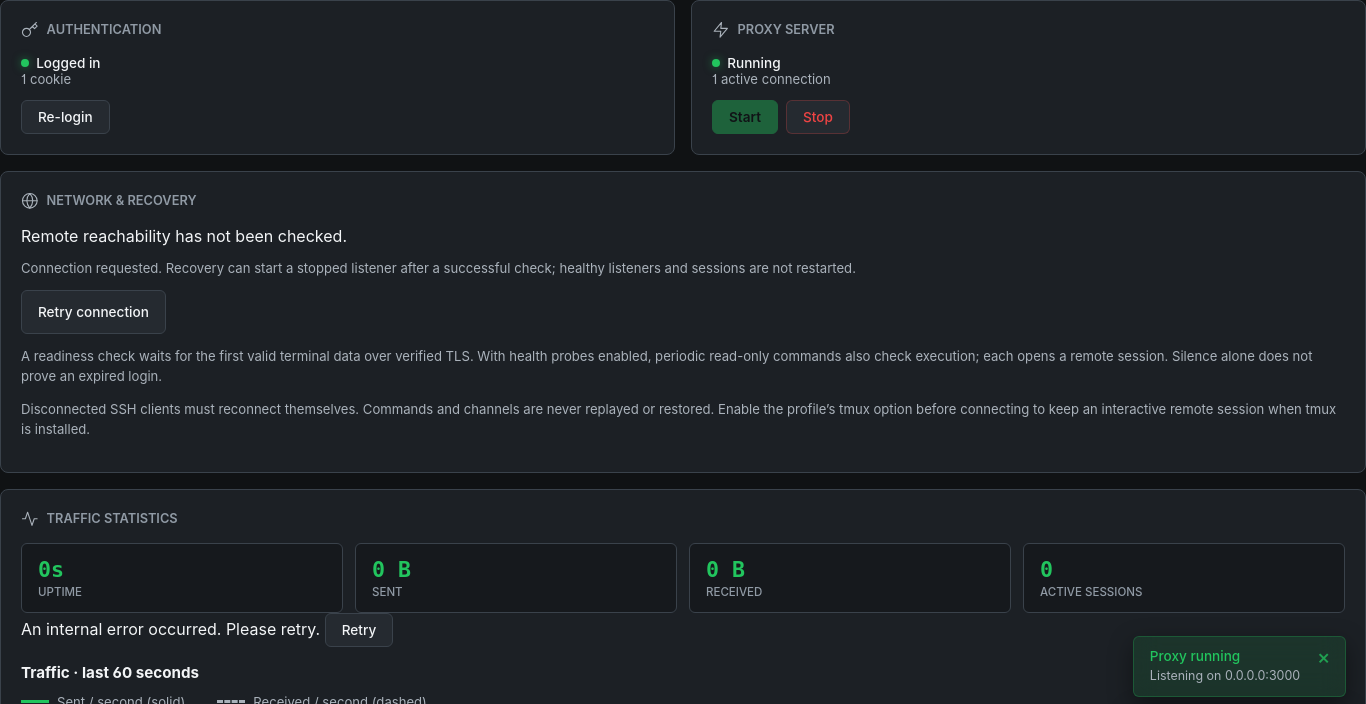
Test: exposes traffic Retry without replacing healthy runtime controls
Expected: the button "Stop" is enabled, [786,100,850,134]
Expected: the message "An internal error occurred. Please retry. Retry" is shown, [21,613,393,647]
Click the button "Retry". click: (359,630)
box: [325,613,393,647]
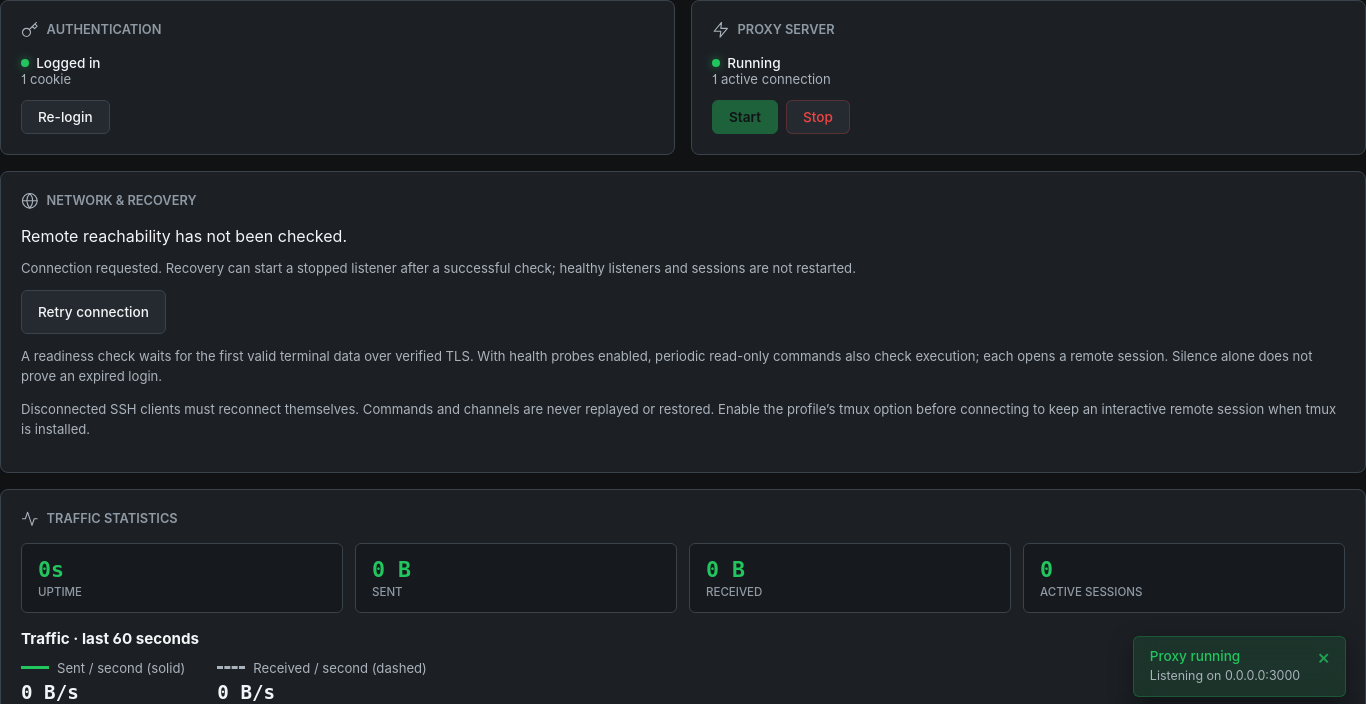
Expected: the message "An internal error occurred. Please retry. Retry" is gone
